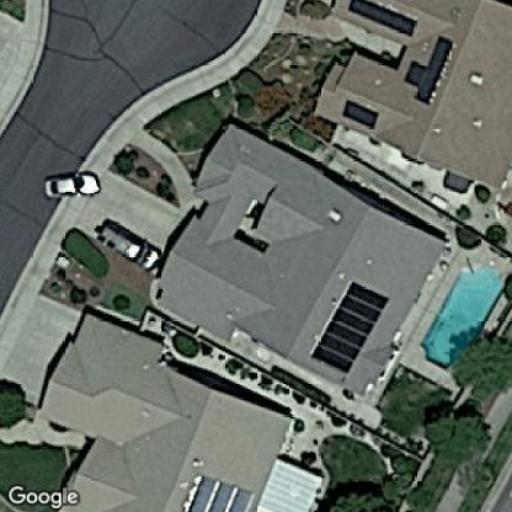solar-panel: (308, 277, 390, 374), (406, 34, 457, 104), (184, 466, 254, 511), (348, 0, 420, 37), (339, 98, 381, 130)
